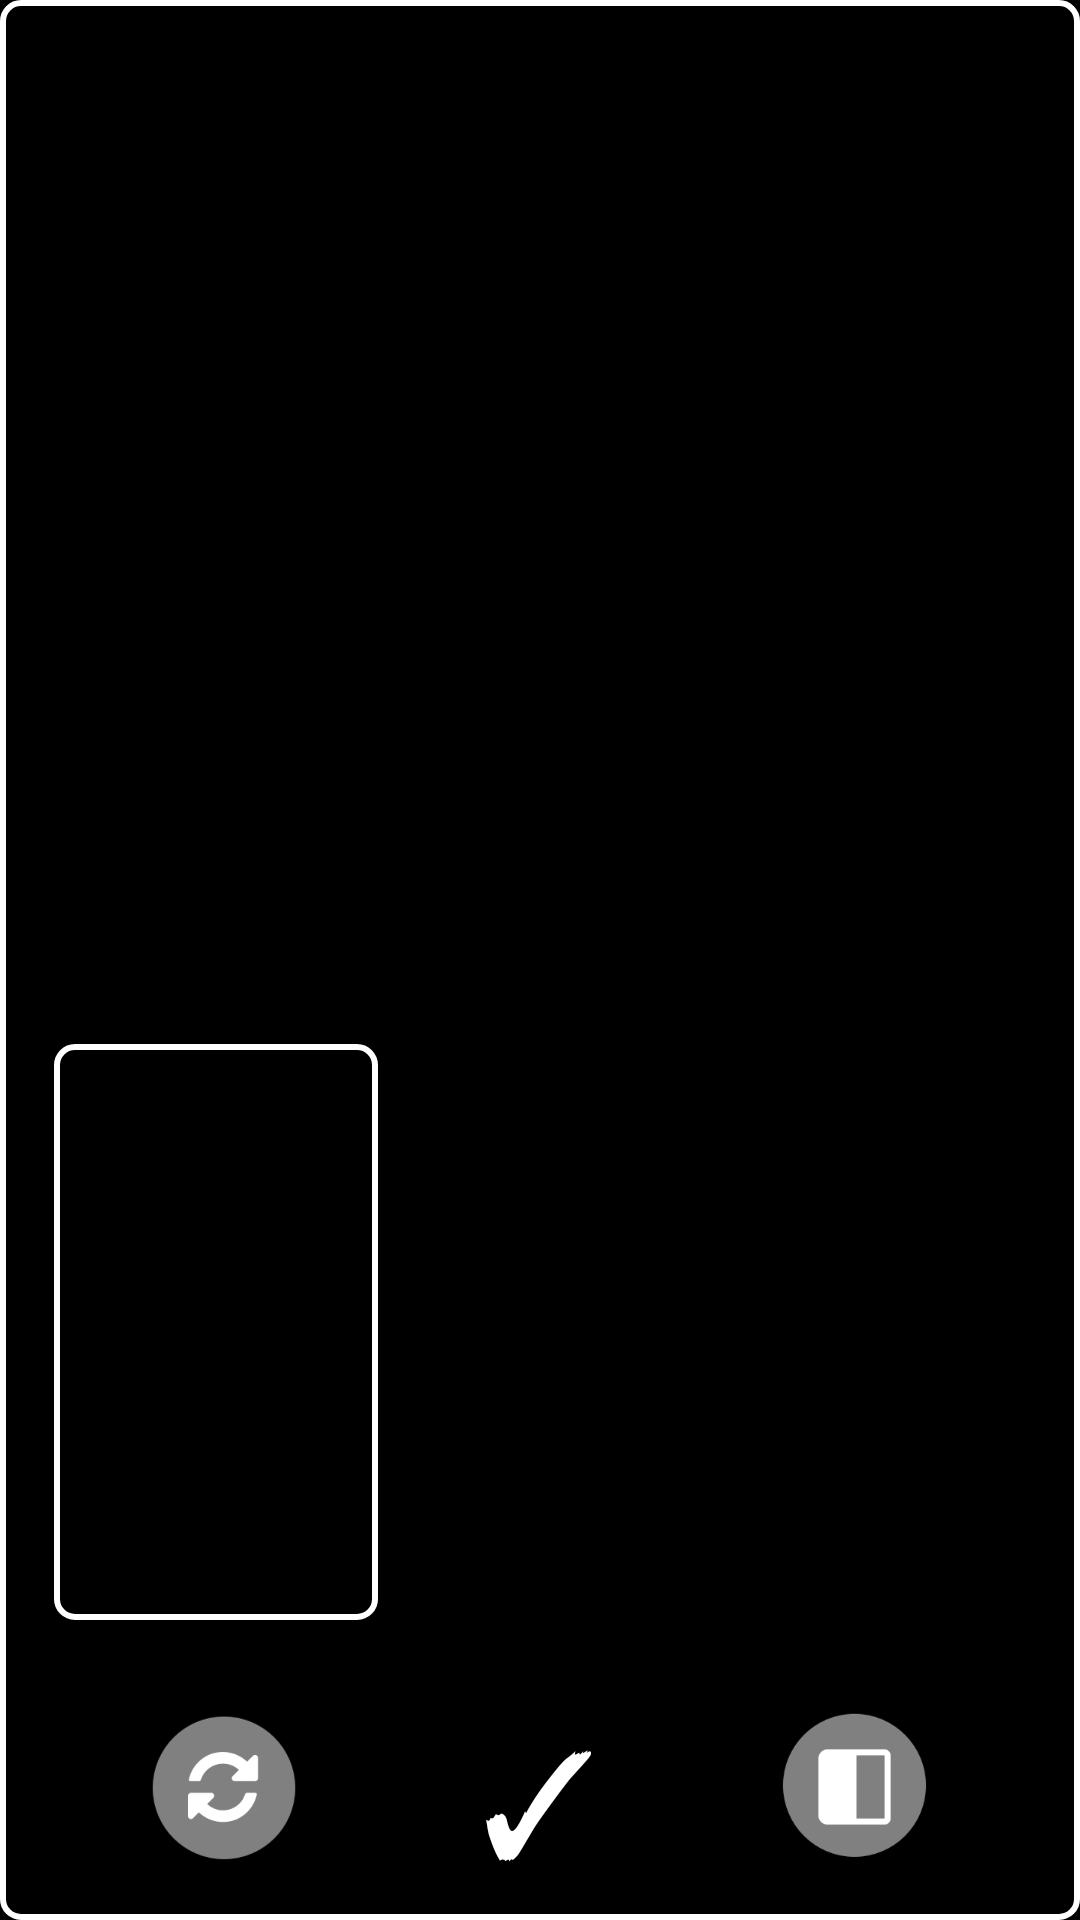

Icons on this 1080*1920 Android screen, each with the point to tap as (x=x, y=y):
reverse: (x=224, y=1787)
side by: (x=854, y=1785)
